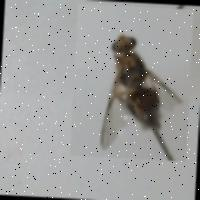Oriental-fruit-fly: (70, 3, 194, 161)
